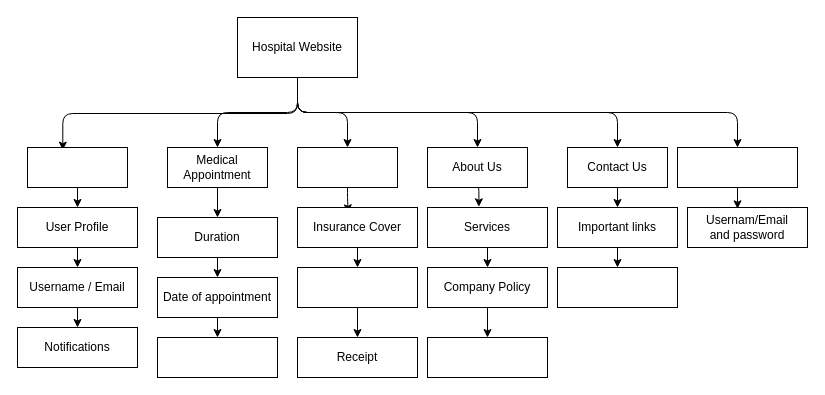
The diagram is 825 pixels wide and 395 high, and some of its shapes have lost their labels. Here are the shapes that lost their labels. From the top down, the box of each, then its label:
(26, 146, 128, 188): My Account
(296, 146, 398, 188): Billing
(676, 146, 798, 188): Login
(296, 266, 418, 308): Mpesa Payments
(556, 266, 678, 308): Emergency Contacs
(156, 336, 278, 378): Create appointment
(426, 336, 548, 378): Vision
